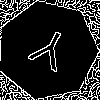Y: (22, 25, 74, 81)
